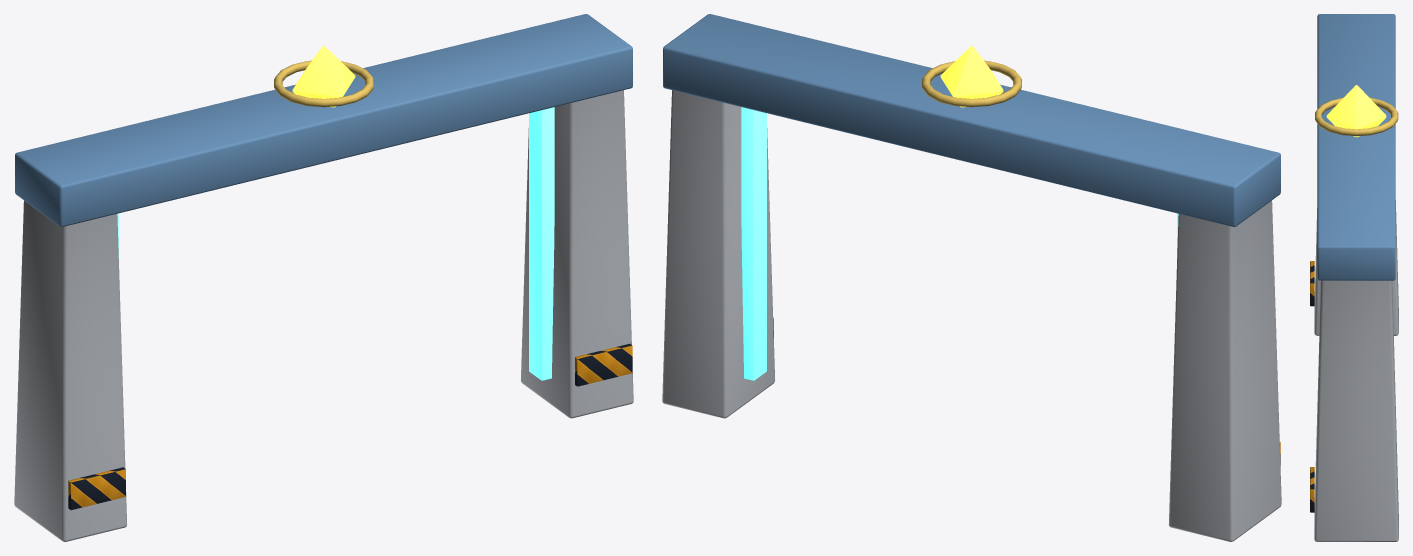
Rendered from aegis_barrier_gate.glb.
3 renders of one model, left to right at view 1: azimuth 30°, elevation 25°; view 2: azimuth 150°, elevation 25°; view 3: azimuth 270°, elevation 25°, orthographic. The views are drawn at different scales.
Visible parts, largest first — view 1: PropBody_A2_OrbitalCeramic, PropBody_A2_AerospaceBlue, PropBody_act2_PropGlow, PropBody_A2_Hazard, BarrierSwitch_A2_AmberCore, BarrierSwitch_A2_SignalGold; view 2: PropBody_A2_OrbitalCeramic, PropBody_A2_AerospaceBlue, PropBody_act2_PropGlow, BarrierSwitch_A2_AmberCore, BarrierSwitch_A2_SignalGold; view 3: PropBody_A2_OrbitalCeramic, PropBody_A2_AerospaceBlue, BarrierSwitch_A2_AmberCore, BarrierSwitch_A2_SignalGold, PropBody_A2_Hazard.
Part boxes in pixels (bbox=[...]): PropBody_A2_OrbitalCeramic: bbox=[14, 90, 633, 541]; PropBody_A2_AerospaceBlue: bbox=[15, 14, 632, 226]; PropBody_act2_PropGlow: bbox=[117, 107, 554, 380]; PropBody_A2_Hazard: bbox=[68, 343, 632, 510]; BarrierSwitch_A2_AmberCore: bbox=[292, 46, 355, 107]; BarrierSwitch_A2_SignalGold: bbox=[274, 60, 373, 107]; PropBody_A2_OrbitalCeramic: bbox=[662, 90, 1281, 541]; PropBody_A2_AerospaceBlue: bbox=[663, 14, 1280, 226]; PropBody_act2_PropGlow: bbox=[741, 107, 1178, 380]; BarrierSwitch_A2_AmberCore: bbox=[940, 46, 1003, 107]; BarrierSwitch_A2_SignalGold: bbox=[922, 60, 1021, 107]; PropBody_A2_OrbitalCeramic: bbox=[1314, 200, 1398, 541]; PropBody_A2_AerospaceBlue: bbox=[1317, 14, 1395, 280]; BarrierSwitch_A2_AmberCore: bbox=[1326, 85, 1386, 137]; BarrierSwitch_A2_SignalGold: bbox=[1315, 97, 1398, 136]; PropBody_A2_Hazard: bbox=[1310, 261, 1314, 512].
Bounding box in the file's own units: 6 × 4.09 × 0.9642.
6 materials, 1 textured.
